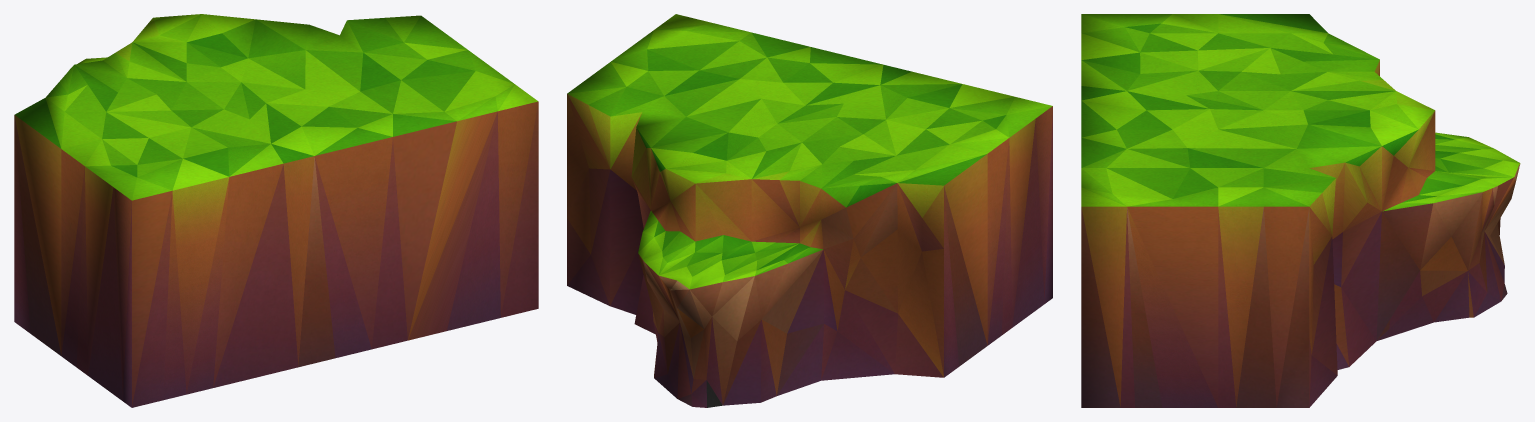
Rendered from Terrain-part-10.fbx.
3 renders of one model, left to right at view 1: azimuth 30°, elevation 25°; view 2: azimuth 150°, elevation 25°; view 3: azimuth 270°, elevation 25°, orthographic. The views are drawn at different scales.
Visible parts, largest first — view 1: Terrain-part-10; view 2: Terrain-part-10; view 3: Terrain-part-10.
Boxes of the visible parts, x1,y1,x2,y2 form: Terrain-part-10: (14,14,538,407); Terrain-part-10: (567,14,1052,407); Terrain-part-10: (1081,14,1520,407).
Bounding box in the file's own units: 6 × 3 × 5.78.
